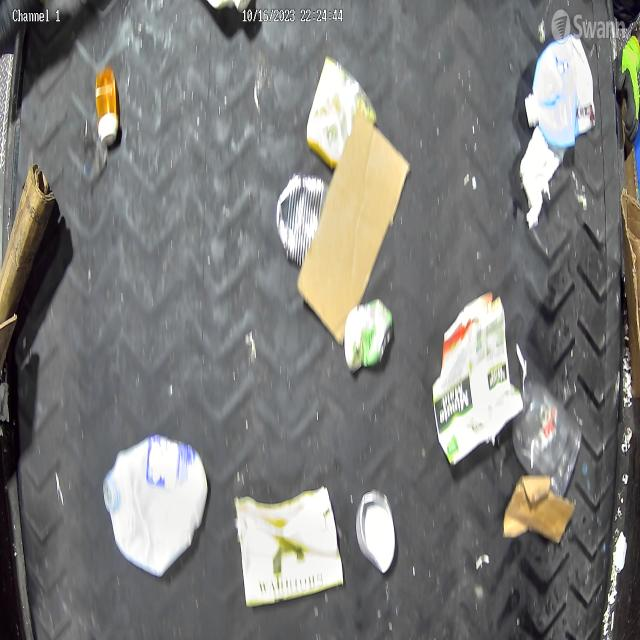can: (274, 173, 327, 270), (344, 297, 394, 374), (355, 487, 396, 575)
milk_jug: (103, 436, 207, 577)
non_white_jug: (524, 34, 596, 148)
